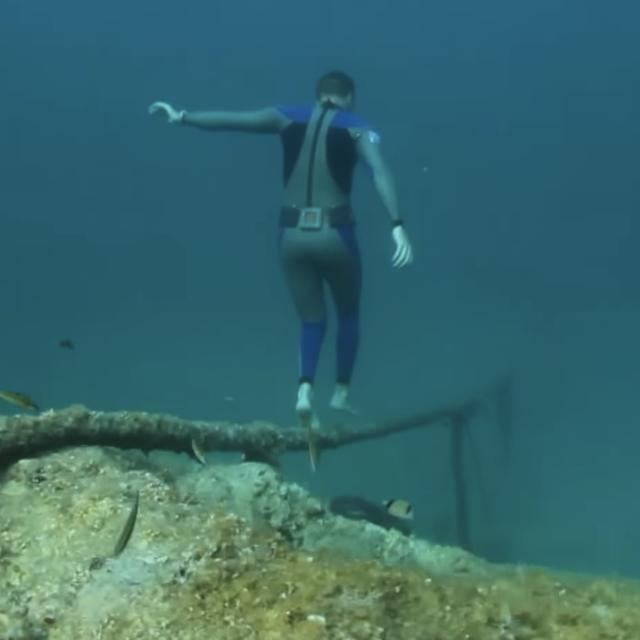human: (143, 59, 432, 436)
